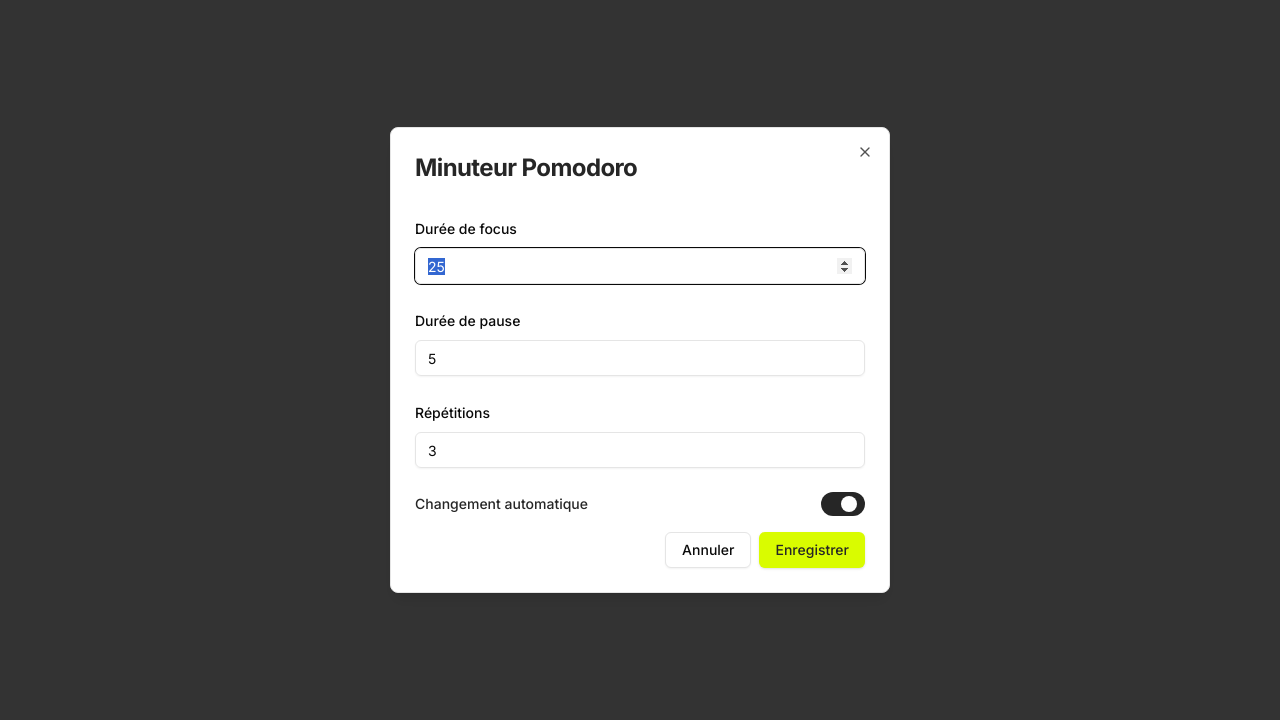
Test: PomodoroSettingsModal › shows validation error for zero focus duration
Replace the text in the number field showing "25" with "0" at (640, 266), box top-left (415, 248), bottom-right (865, 284)
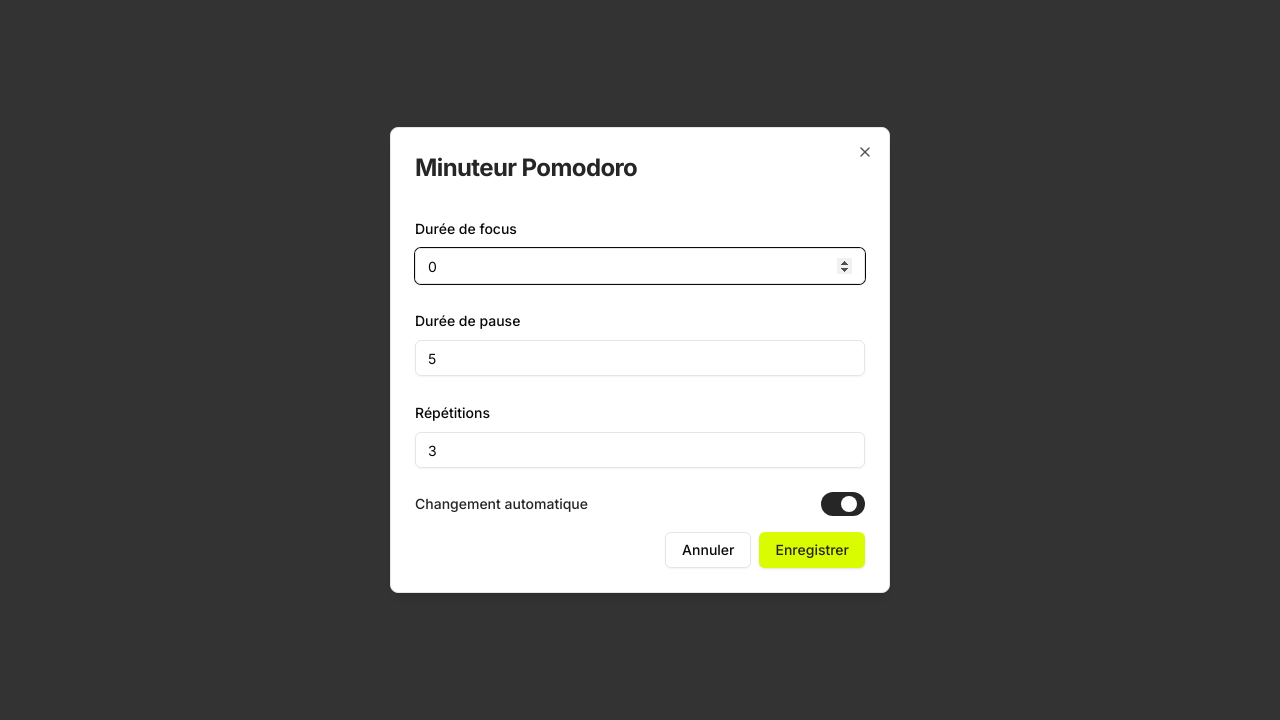
Click the button "Enregistrer" at (812, 550), box top-left (760, 532), bottom-right (865, 568)
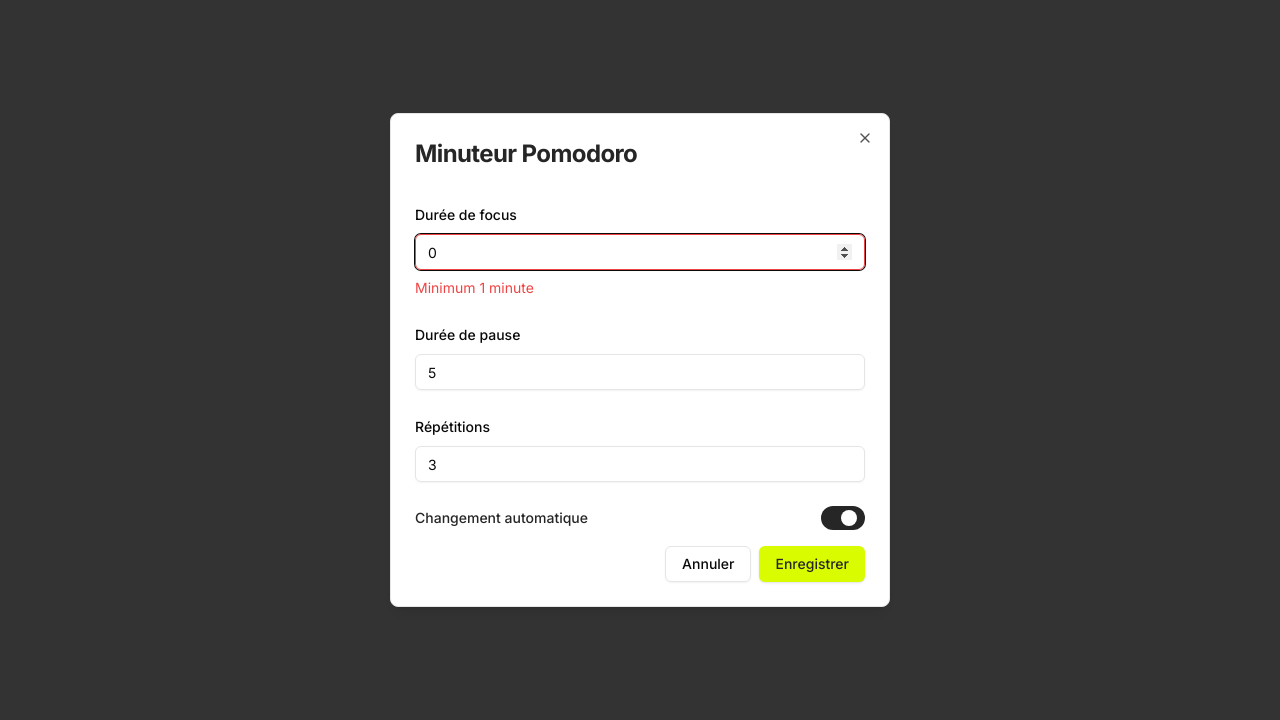
expect the text "Minimum 1 minute" is shown: met, box top-left (415, 279), bottom-right (534, 296)
